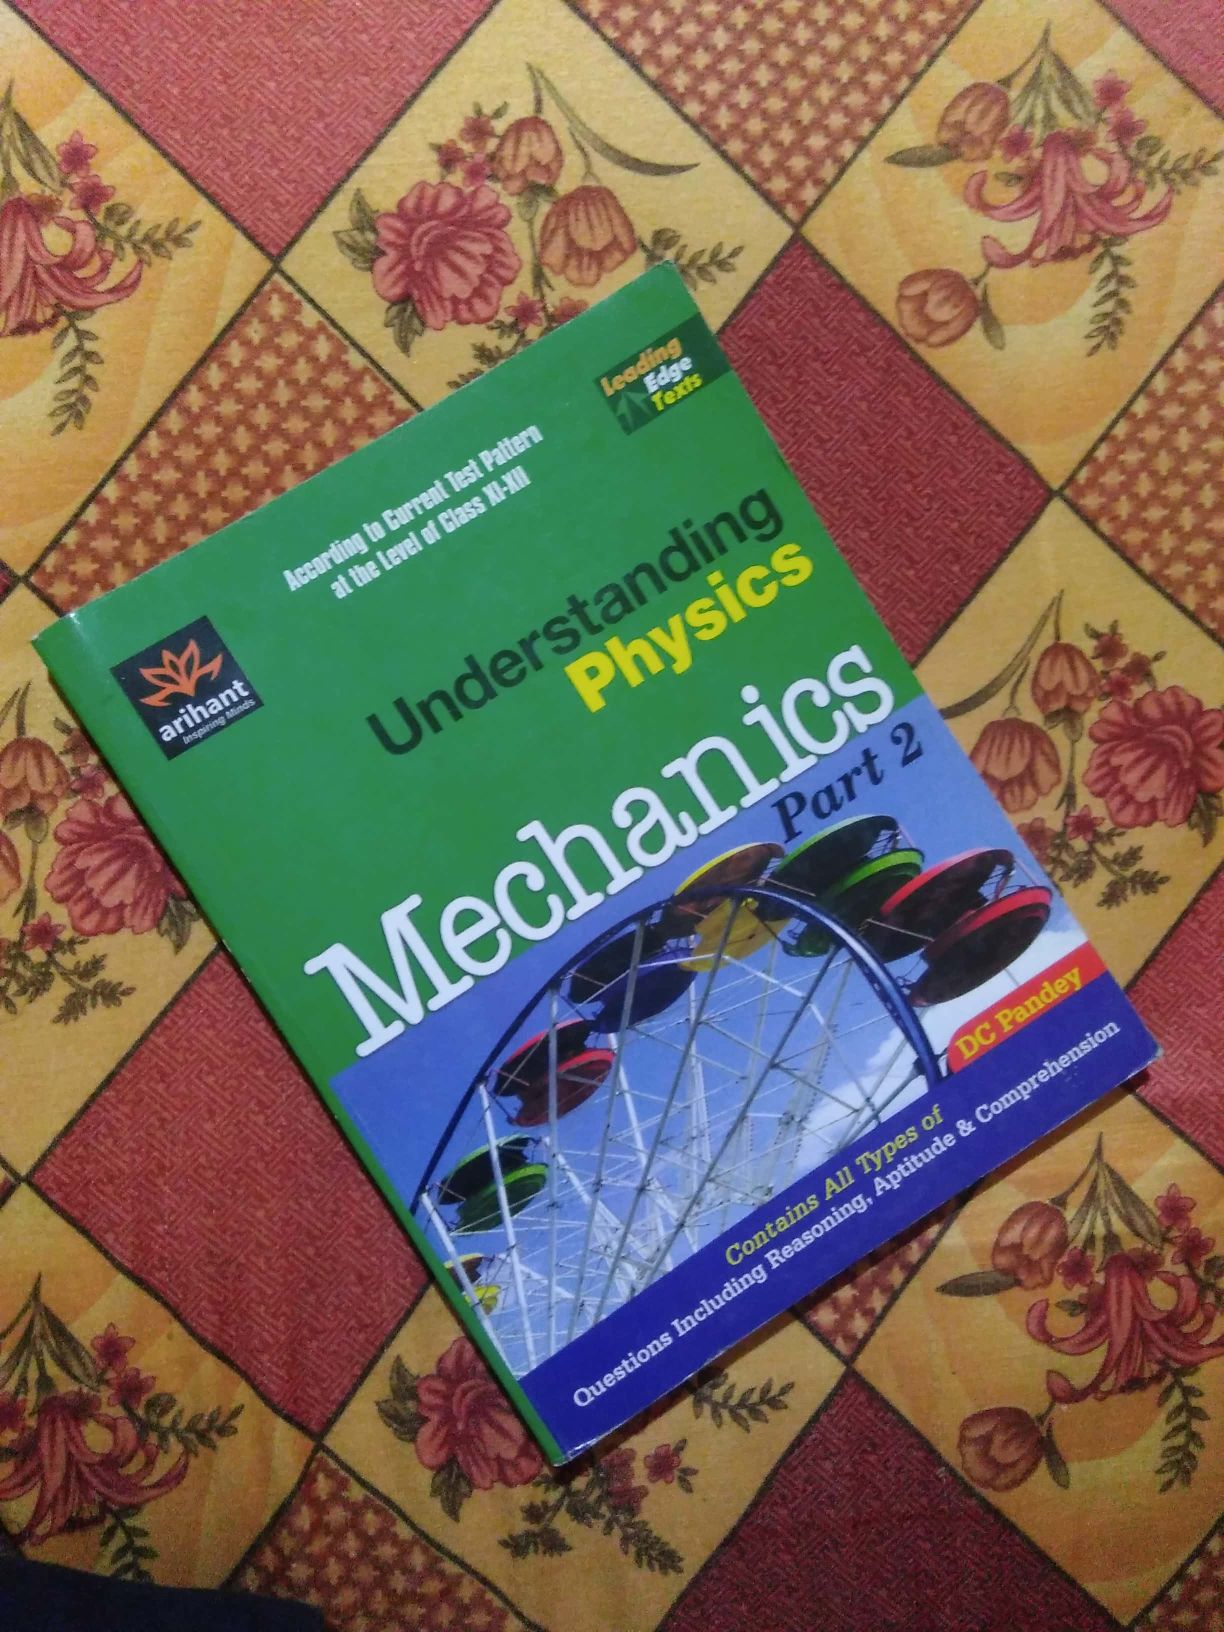mechanics: (51, 285, 1185, 1424)
